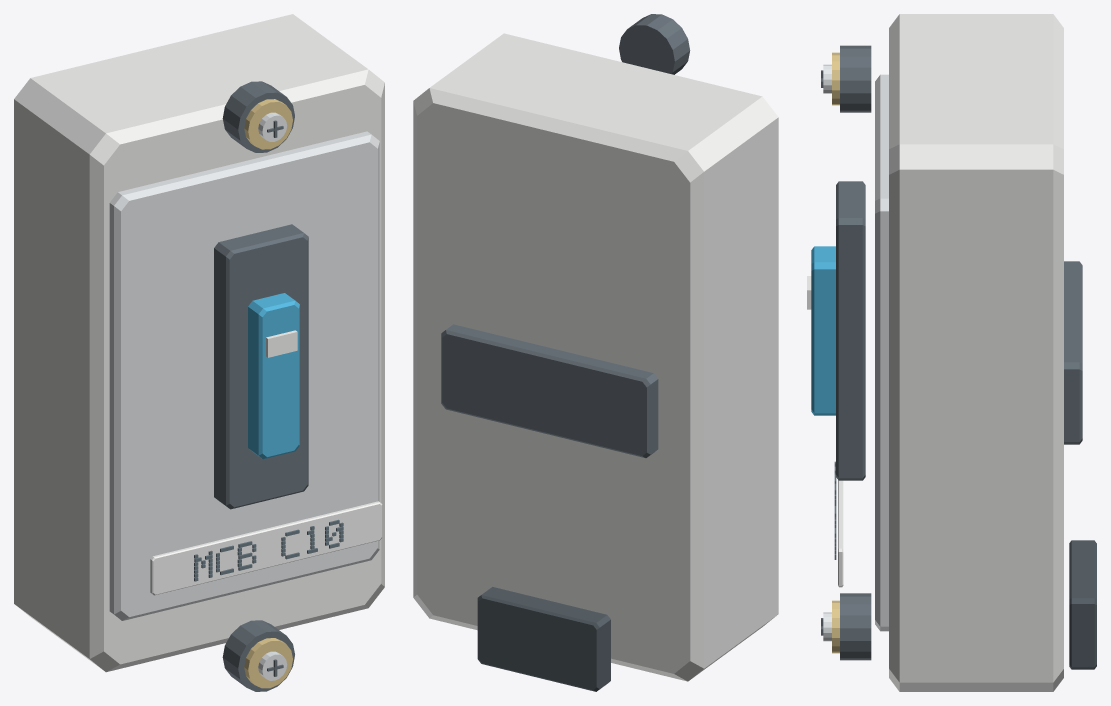
The model's file is circuitBreaker.glb.
The picture shows the model from 3 angles, left to right: view 1: azimuth 30°, elevation 25°; view 2: azimuth 150°, elevation 25°; view 3: azimuth 270°, elevation 25°; orthographic projection. The views are drawn at different scales.
Visible parts, largest first — view 1: circuitBreaker-preview; view 2: circuitBreaker-preview; view 3: circuitBreaker-preview.
Part boxes in pixels (left/top/right/bottom): circuitBreaker-preview: left=14, top=14, right=384, bottom=691; circuitBreaker-preview: left=413, top=14, right=778, bottom=691; circuitBreaker-preview: left=807, top=14, right=1096, bottom=691.
Bounding box in the file's own units: 1.62 × 3.15 × 1.36.
